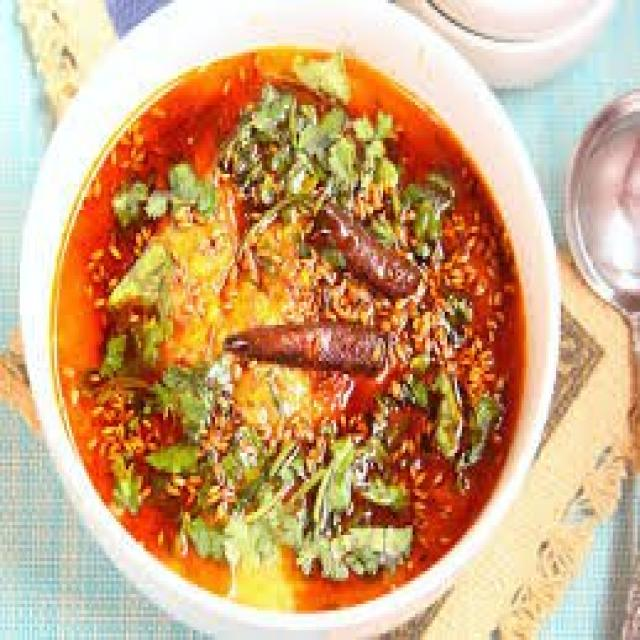dal: (103, 106, 494, 597)
